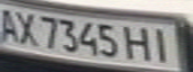3: (54, 17, 81, 54)
4: (75, 19, 100, 56)
5: (96, 20, 124, 60)
7: (36, 13, 60, 51)
A: (0, 6, 21, 43)
H: (121, 24, 154, 62)
I: (145, 25, 178, 63)
X: (9, 8, 42, 47)
